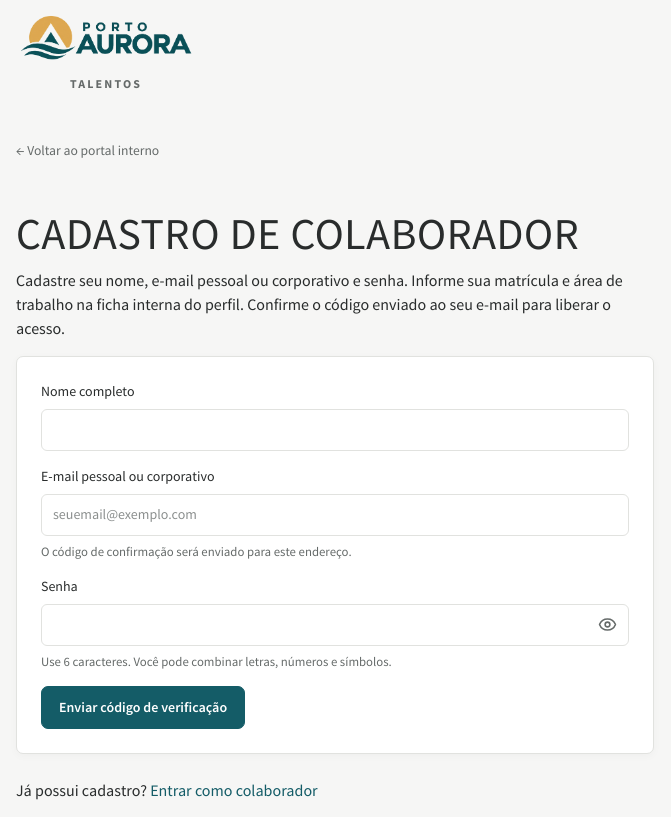
registers with name email password and verification code only
Type "Colaborador Teste" into the field labelled "Nome completo" at point(335, 430), box [41,409,629,451]
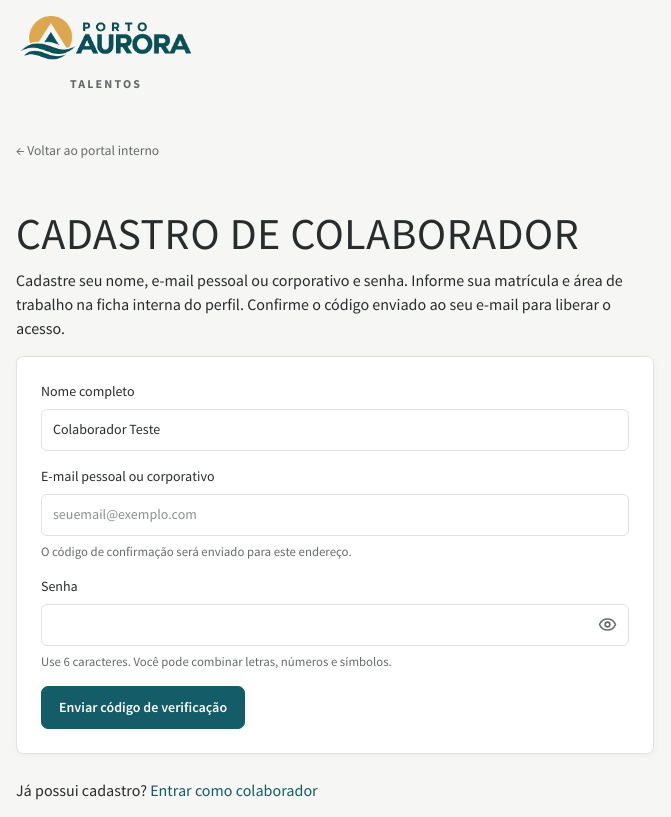
Type "colaborador@portoaurora.example" into the field labelled "E-mail pessoal ou corporativo" at point(335, 515), box [41,494,629,536]
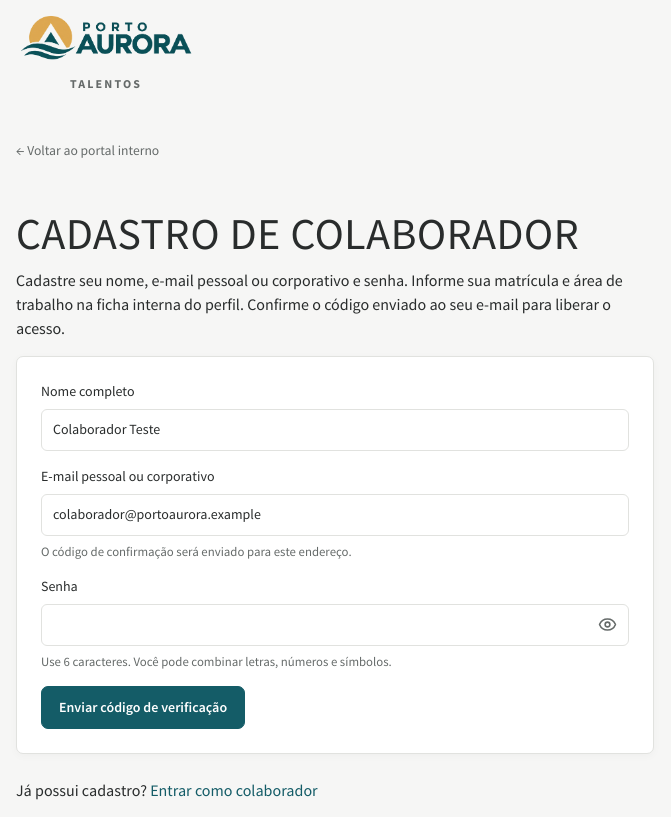
Type "Ep42!?" into the password field labelled "Senha" at point(335, 625), box [41,604,629,646]
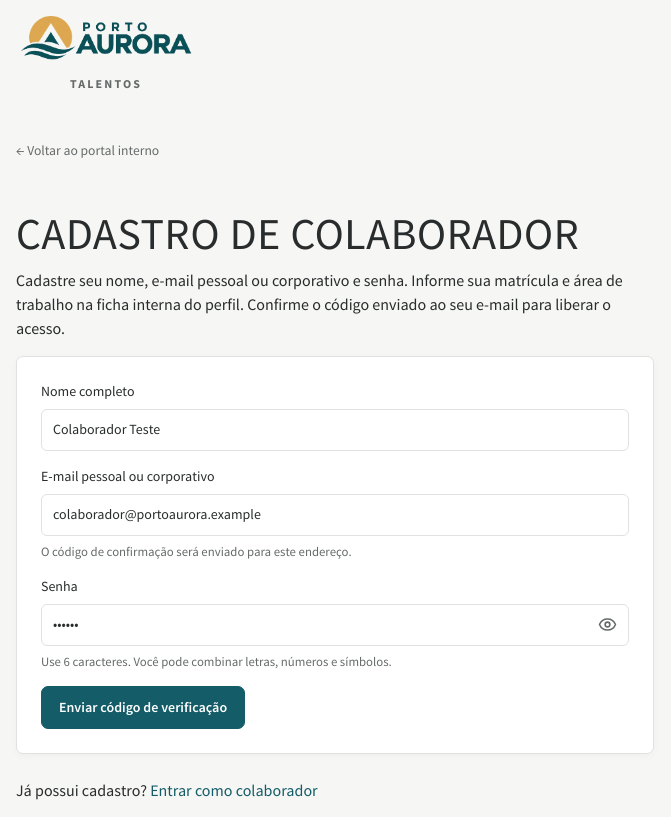
Click the button "Enviar código de verificação" at point(143, 707), box [41,686,245,728]
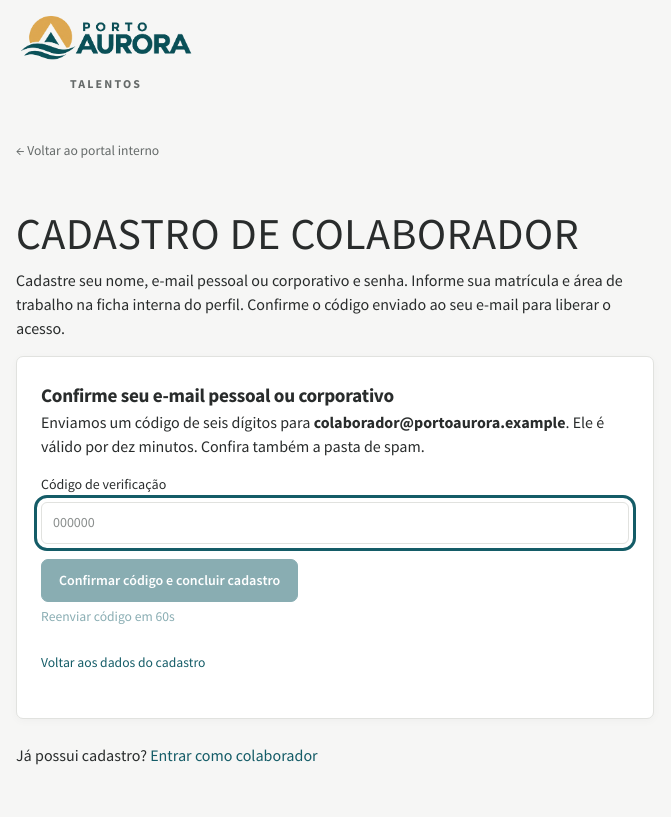
Expected: the heading "Confirme seu e-mail pessoal ou corporativo" is shown, [41,383,394,407]
Expected: the button "Reenviar código em 60s" is disabled, [41,602,175,632]
Type "123456" into the field labelled "Código de verificação" at point(335, 522), box [41,502,629,544]
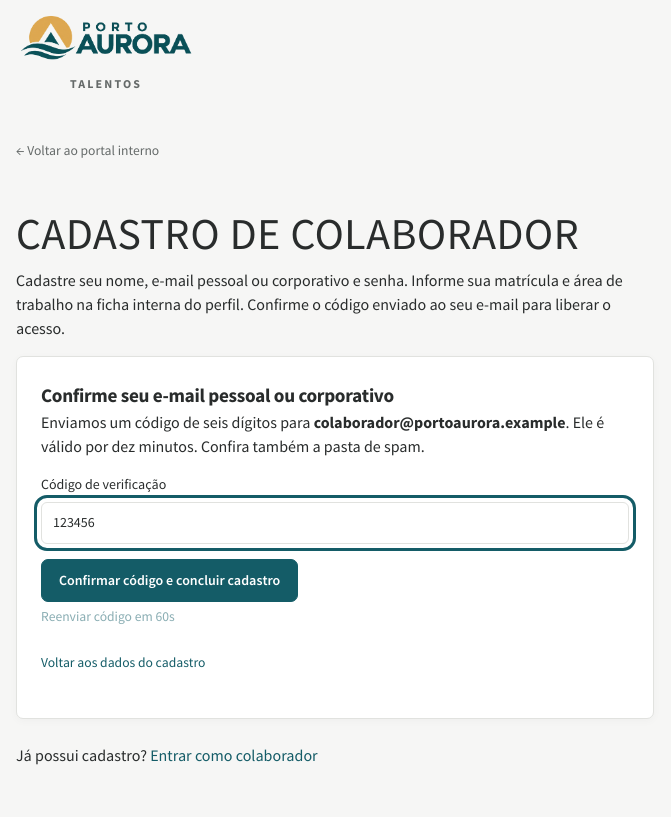
Click the button "Confirmar código e concluir cadastro" at point(170, 580), box [41,558,298,602]
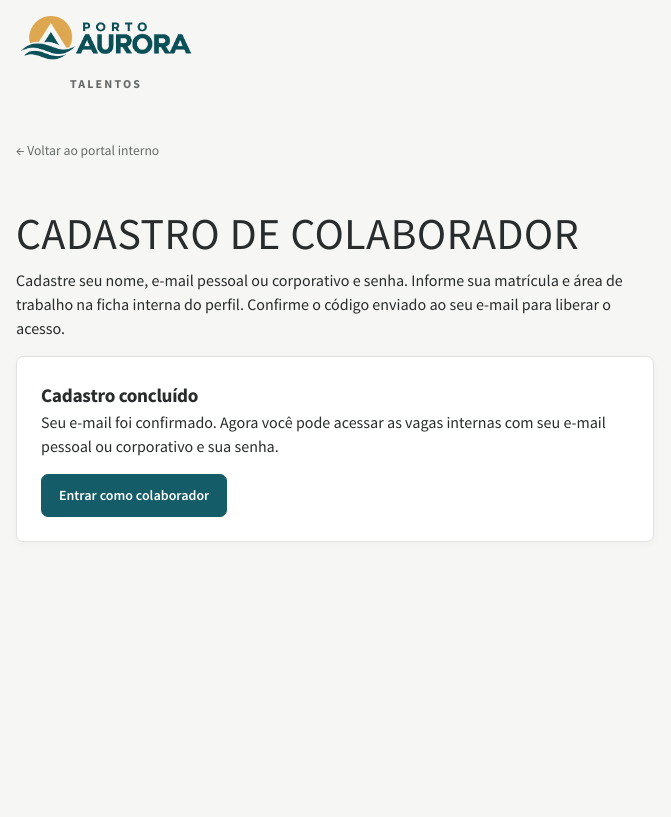
Expected: the heading "Cadastro concluído" is shown, [41,383,198,407]
